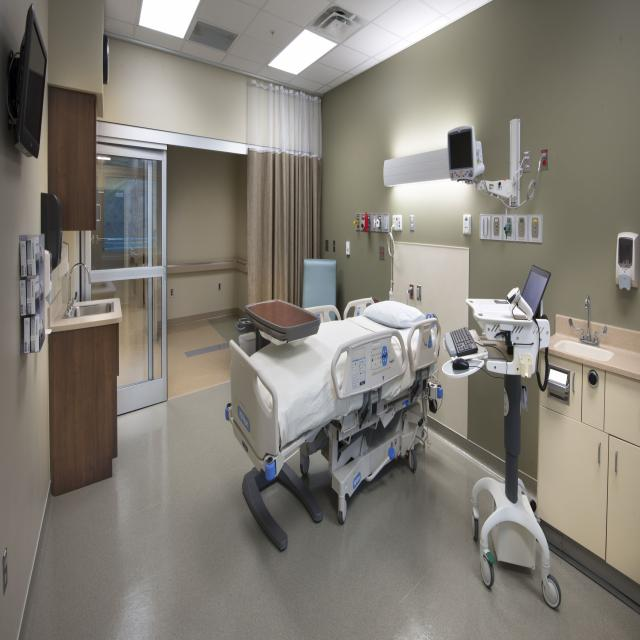cardiac_monitor: (447, 128, 483, 195)
patient_bed: (230, 285, 442, 483)
